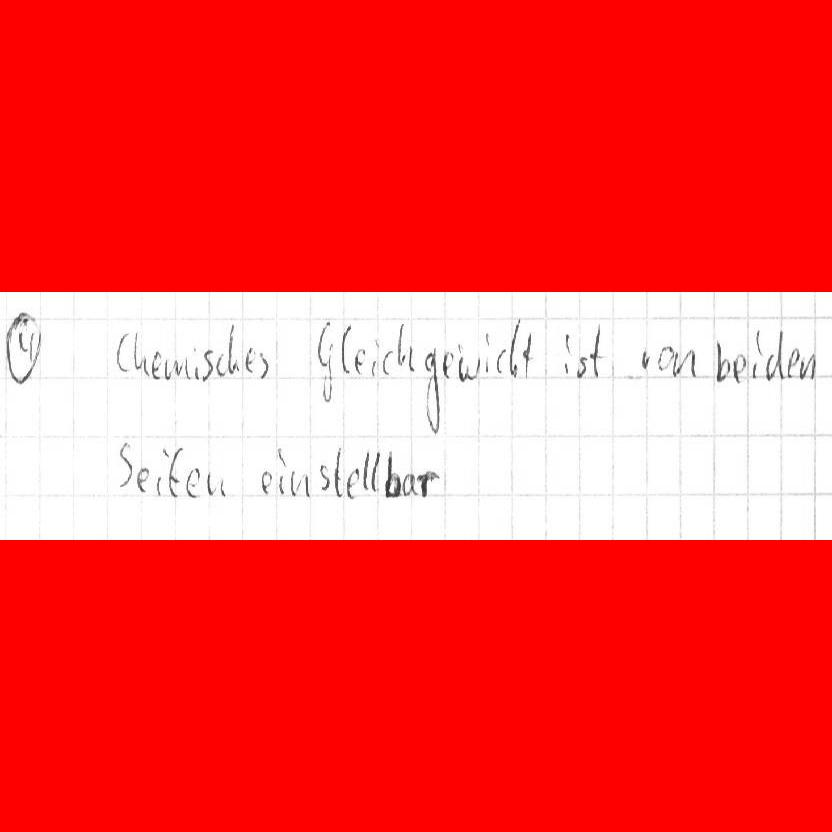Char: (420, 346, 441, 436), (314, 318, 335, 401), (394, 320, 417, 373), (764, 328, 785, 382), (588, 322, 607, 380), (166, 446, 185, 499), (383, 447, 402, 500), (116, 439, 134, 491), (713, 336, 731, 386), (508, 316, 521, 380), (114, 329, 132, 374), (226, 322, 241, 375), (669, 348, 695, 378), (339, 322, 353, 377), (133, 330, 149, 377), (154, 444, 167, 499), (16, 328, 37, 362), (289, 468, 311, 500), (416, 467, 437, 500), (751, 327, 764, 380), (275, 446, 288, 498), (164, 356, 192, 380), (457, 354, 480, 383), (520, 331, 534, 378), (731, 351, 749, 385), (368, 336, 382, 379), (798, 350, 817, 381), (184, 466, 201, 500), (561, 331, 573, 379), (205, 470, 226, 497), (369, 449, 381, 494), (655, 343, 674, 371), (345, 465, 359, 500), (400, 471, 418, 498), (785, 345, 799, 379), (201, 347, 214, 382), (441, 348, 455, 380), (361, 448, 371, 492), (351, 346, 366, 375), (334, 446, 342, 499), (258, 350, 272, 379), (135, 465, 149, 494), (317, 462, 331, 491), (482, 331, 491, 375), (243, 343, 256, 373), (639, 345, 653, 372), (495, 346, 507, 376), (151, 351, 163, 380), (381, 349, 393, 377), (191, 345, 200, 382), (575, 355, 588, 380), (260, 469, 272, 494), (214, 350, 225, 377)
